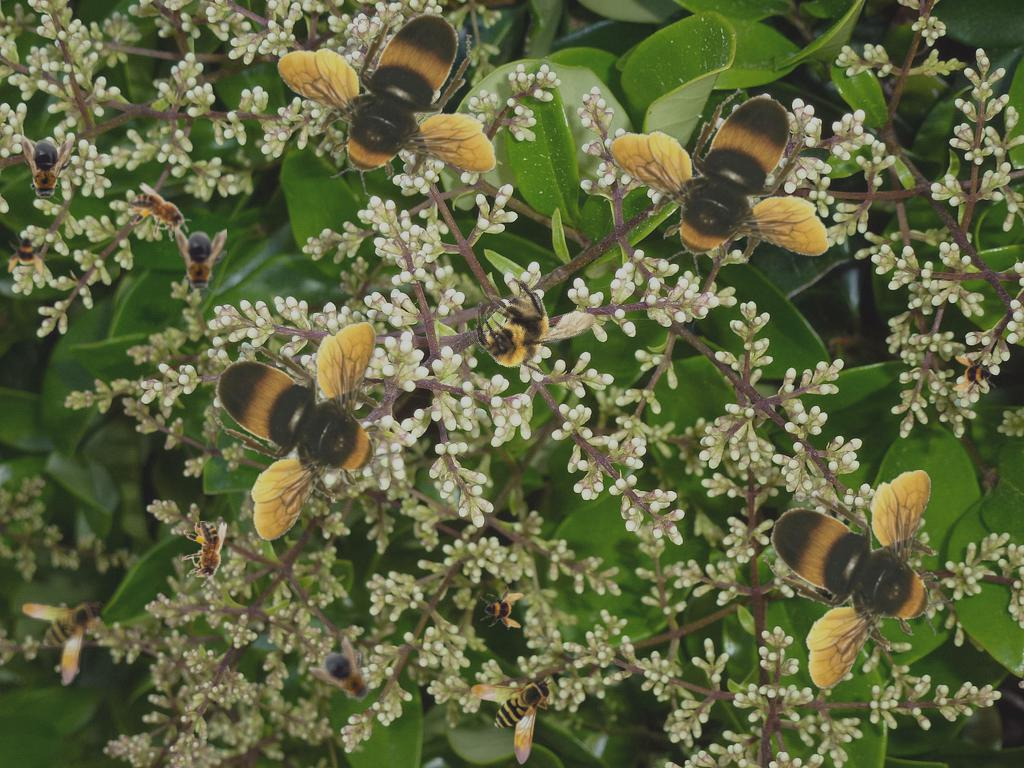Bee: (208, 322, 399, 542), (609, 88, 829, 279), (276, 5, 496, 196), (763, 470, 954, 690), (454, 249, 611, 404), (16, 594, 104, 688), (305, 632, 391, 718), (471, 677, 553, 765), (120, 180, 200, 251), (21, 135, 73, 203), (175, 227, 227, 295), (182, 521, 227, 587), (6, 232, 50, 276), (480, 586, 524, 630), (952, 354, 996, 398)
